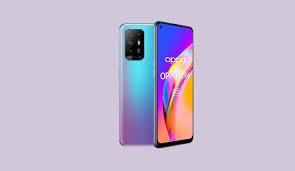Smartphone: (154, 22, 197, 151), (116, 24, 155, 149)
